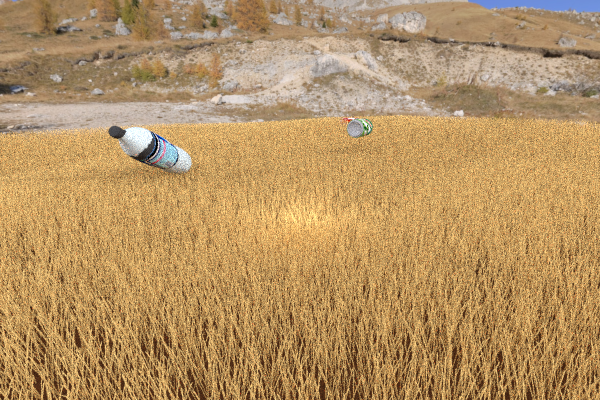Plastic Bottle: (108, 125, 191, 174), (346, 118, 372, 138), (337, 117, 360, 130)
